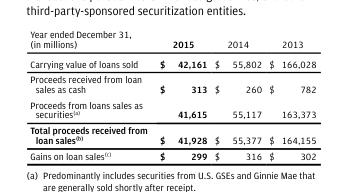table: (29, 28, 315, 161)
table column: (29, 28, 152, 161), (152, 28, 210, 161), (210, 28, 264, 161), (264, 28, 315, 161)
table column header: (29, 28, 315, 53)
table row: (29, 96, 315, 122), (29, 28, 315, 53), (29, 71, 315, 96), (29, 122, 315, 147), (29, 53, 315, 71), (29, 147, 315, 161)
